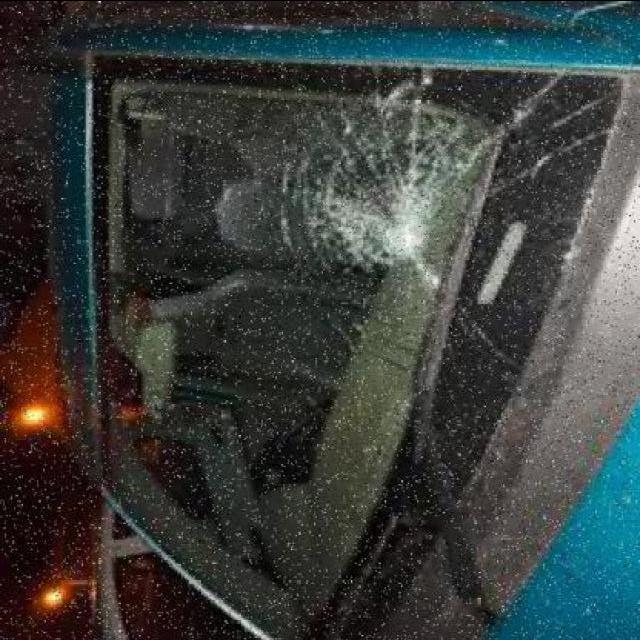Front-Windscreen-Damage: (99, 43, 637, 632)
